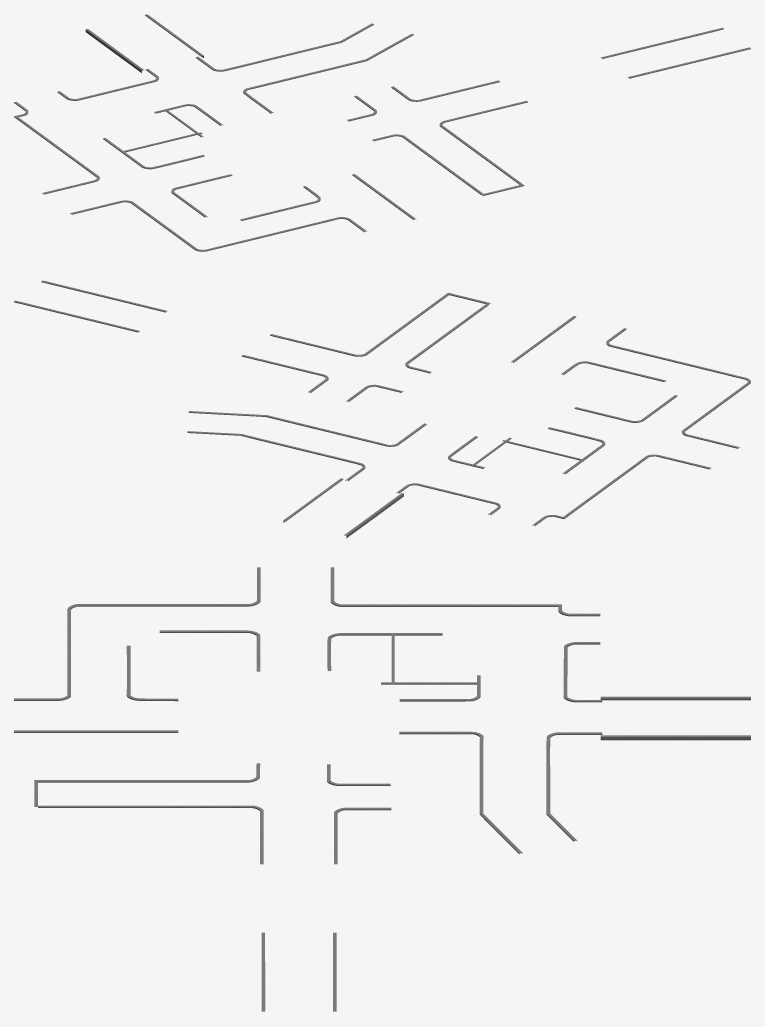
The model's file is scene_luoliante_cd03.FBX.
The picture shows the model from 3 angles, top to bottom: view 1: azimuth 30°, elevation 25°; view 2: azimuth 150°, elevation 25°; view 3: azimuth 270°, elevation 25°; orthographic projection. The views are drawn at different scales.
Visible parts, largest first — view 1: scene_luoliante_cd03; view 2: scene_luoliante_cd03; view 3: scene_luoliante_cd03.
Part boxes in pixels (box(x1,y1,x2,y2)): scene_luoliante_cd03: box(14, 14, 750, 251); scene_luoliante_cd03: box(14, 280, 750, 538); scene_luoliante_cd03: box(14, 567, 750, 1011).
Bounding box in the file's own units: 6274 × 23.91 × 4417.
1 material, 1 textured.
